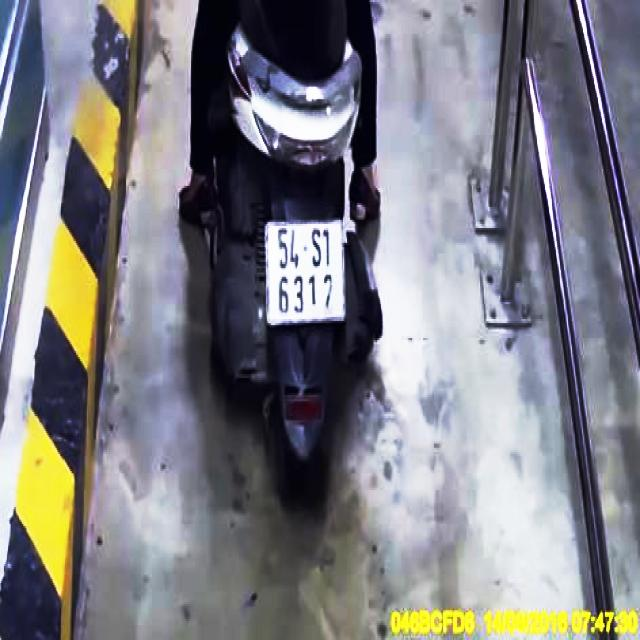license_plate: (268, 223, 346, 322)
